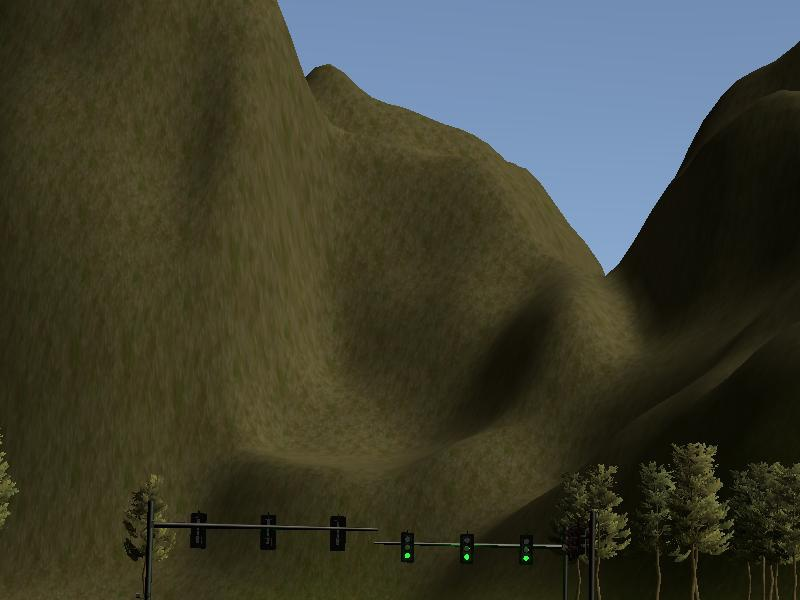Green: (398, 530, 416, 564), (458, 532, 476, 564), (519, 533, 536, 566)
